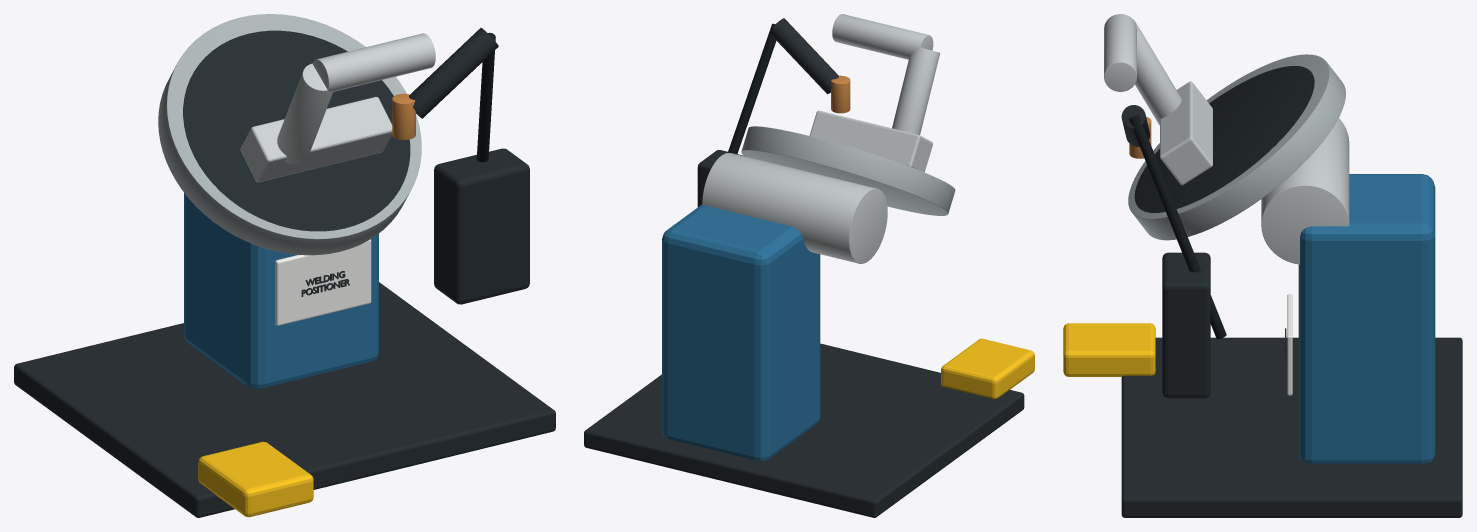
The model's file is welding_positioner.glb.
3 views of the same model, side by side, from view 1: azimuth 30°, elevation 25°; view 2: azimuth 150°, elevation 25°; view 3: azimuth 270°, elevation 25° (orthographic). The views are drawn at different scales.
Visible parts, largest first — view 1: MACHINE_BASE, TABLE_FACE, POSITIONER_COLUMN, CONTROL_PENDANT, KIN_ROTARY_TABLE, WELD_FIXTURE, FOOT_CONTROL, POSITIONER_SIGN, WELDMENT_HORIZONTAL, WELDMENT_VERTICAL, WELDING_TORCH, TORCH_CABLE (+1 smaller); view 2: POSITIONER_COLUMN, MACHINE_BASE, KIN_TILT_TRUNNION, KIN_ROTARY_TABLE, FOOT_CONTROL, WELD_FIXTURE, WELDMENT_HORIZONTAL, WELDMENT_VERTICAL, WELDING_TORCH, TORCH_CABLE, TORCH_NOZZLE, CONTROL_PENDANT; view 3: MACHINE_BASE, POSITIONER_COLUMN, TABLE_FACE, KIN_ROTARY_TABLE, KIN_TILT_TRUNNION, CONTROL_PENDANT, FOOT_CONTROL, WELD_FIXTURE, WELDMENT_HORIZONTAL, TORCH_CABLE, WELDMENT_VERTICAL, WELDING_TORCH (+1 smaller).
Boxes of the visible parts, x1,y1,x2,y2 form: MACHINE_BASE: (14, 282, 555, 517); TABLE_FACE: (183, 30, 410, 231); POSITIONER_COLUMN: (184, 193, 378, 388); CONTROL_PENDANT: (434, 148, 529, 304); KIN_ROTARY_TABLE: (158, 14, 421, 255); WELD_FIXTURE: (240, 97, 392, 182); FOOT_CONTROL: (198, 441, 313, 517); POSITIONER_SIGN: (275, 239, 371, 325); WELDMENT_HORIZONTAL: (312, 33, 435, 91); WELDMENT_VERTICAL: (277, 63, 332, 164); WELDING_TORCH: (409, 28, 498, 118); TORCH_CABLE: (476, 32, 495, 162); POSITIONER_COLUMN: (662, 204, 820, 460); MACHINE_BASE: (584, 343, 1024, 517); KIN_TILT_TRUNNION: (702, 153, 887, 263); KIN_ROTARY_TABLE: (741, 126, 955, 215); FOOT_CONTROL: (941, 338, 1034, 398); WELD_FIXTURE: (809, 110, 932, 172); WELDMENT_HORIZONTAL: (832, 14, 933, 59); WELDMENT_VERTICAL: (892, 47, 940, 134); WELDING_TORCH: (769, 18, 838, 94); TORCH_CABLE: (727, 23, 776, 154); TORCH_NOZZLE: (831, 75, 850, 113); CONTROL_PENDANT: (697, 150, 744, 207); MACHINE_BASE: (1121, 337, 1462, 517); POSITIONER_COLUMN: (1298, 174, 1435, 463); TABLE_FACE: (1134, 66, 1314, 212); KIN_ROTARY_TABLE: (1128, 54, 1345, 240); KIN_TILT_TRUNNION: (1261, 118, 1349, 264); CONTROL_PENDANT: (1162, 252, 1210, 398); FOOT_CONTROL: (1063, 323, 1155, 376); WELD_FIXTURE: (1160, 81, 1212, 185); WELDMENT_HORIZONTAL: (1104, 14, 1136, 91); TORCH_CABLE: (1129, 115, 1226, 338); WELDMENT_VERTICAL: (1133, 19, 1181, 125); WELDING_TORCH: (1121, 105, 1150, 146).
Size of the model in its own units: 1.75 by 1.99 by 1.81.
